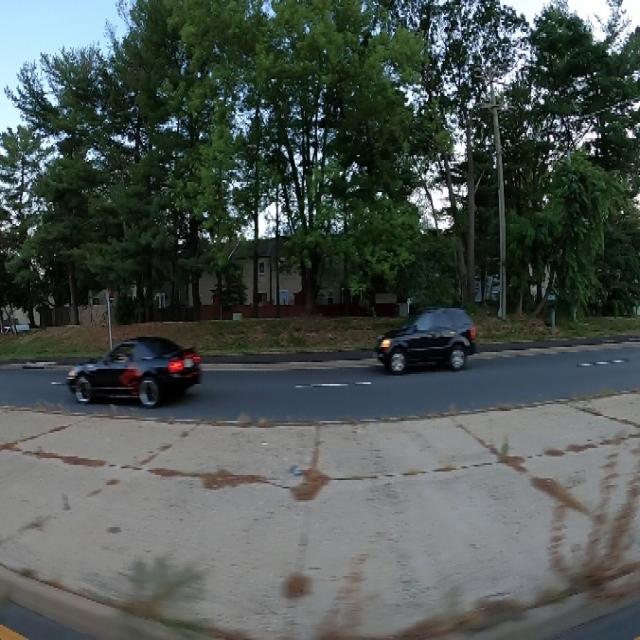car: (61, 322, 205, 414), (371, 291, 485, 381)
